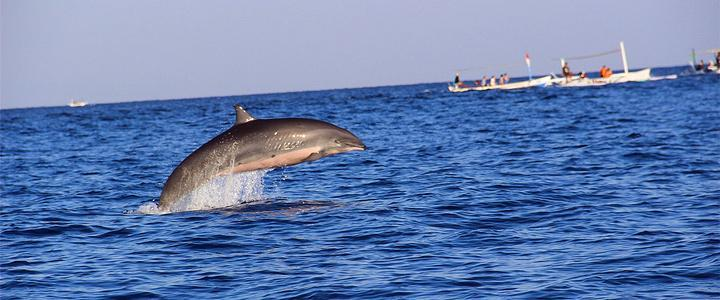fish: (150, 94, 368, 212)
